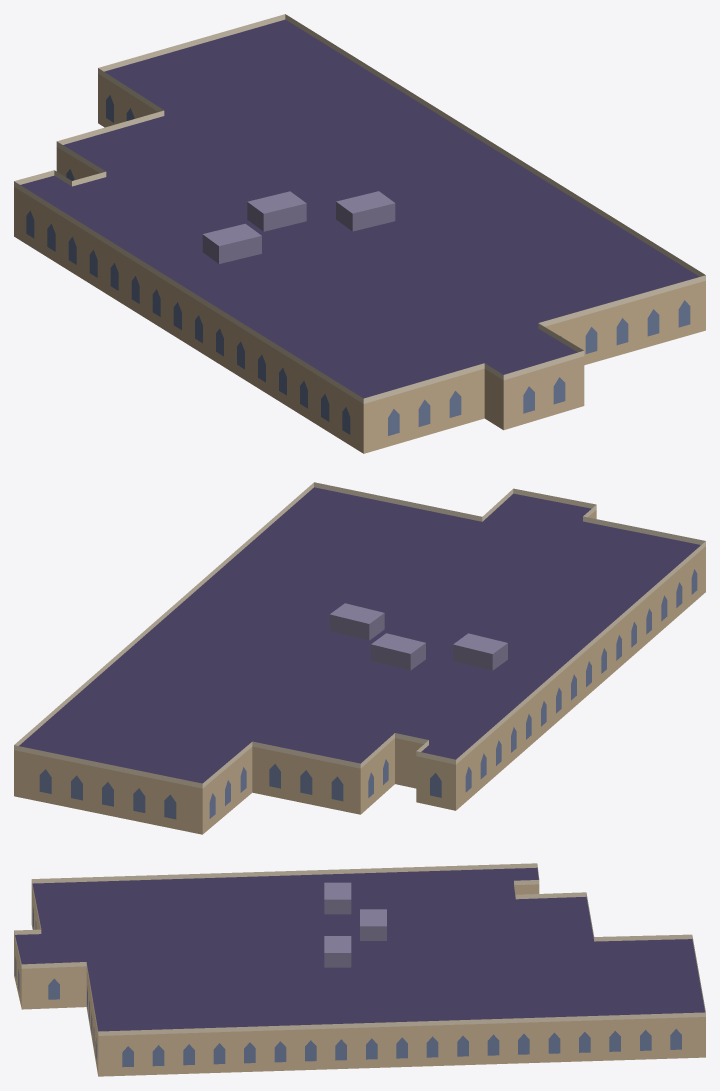
Rendered from b-112-boundary-layer-wind-tunnel-laboratory-day.glb.
3 views of the same model, one above another, from view 1: azimuth 30°, elevation 25°; view 2: azimuth 150°, elevation 25°; view 3: azimuth 270°, elevation 25° (orthographic). The views are drawn at different scales.
Visible parts, largest first — view 1: campus/b-112-boundary-layer-wind-tunnel-laboratory-day-0; view 2: campus/b-112-boundary-layer-wind-tunnel-laboratory-day-0; view 3: campus/b-112-boundary-layer-wind-tunnel-laboratory-day-0.
Part boxes in pixels (x1,y1,x2,y2): campus/b-112-boundary-layer-wind-tunnel-laboratory-day-0: [14, 14, 705, 453]; campus/b-112-boundary-layer-wind-tunnel-laboratory-day-0: [14, 482, 705, 834]; campus/b-112-boundary-layer-wind-tunnel-laboratory-day-0: [14, 863, 705, 1076].
Size of the model in its own units: 44.33 by 6.8 by 77.08.
